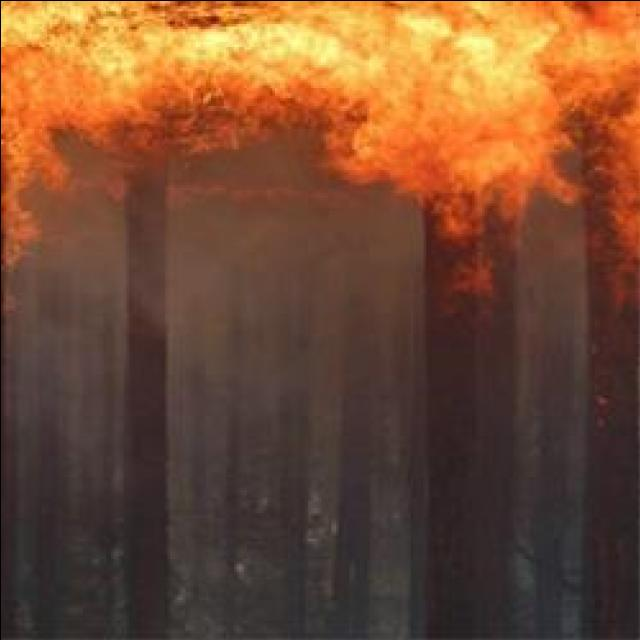fire: (5, 0, 341, 115), (359, 0, 565, 179), (0, 115, 66, 284)
smoke: (46, 225, 225, 311)
